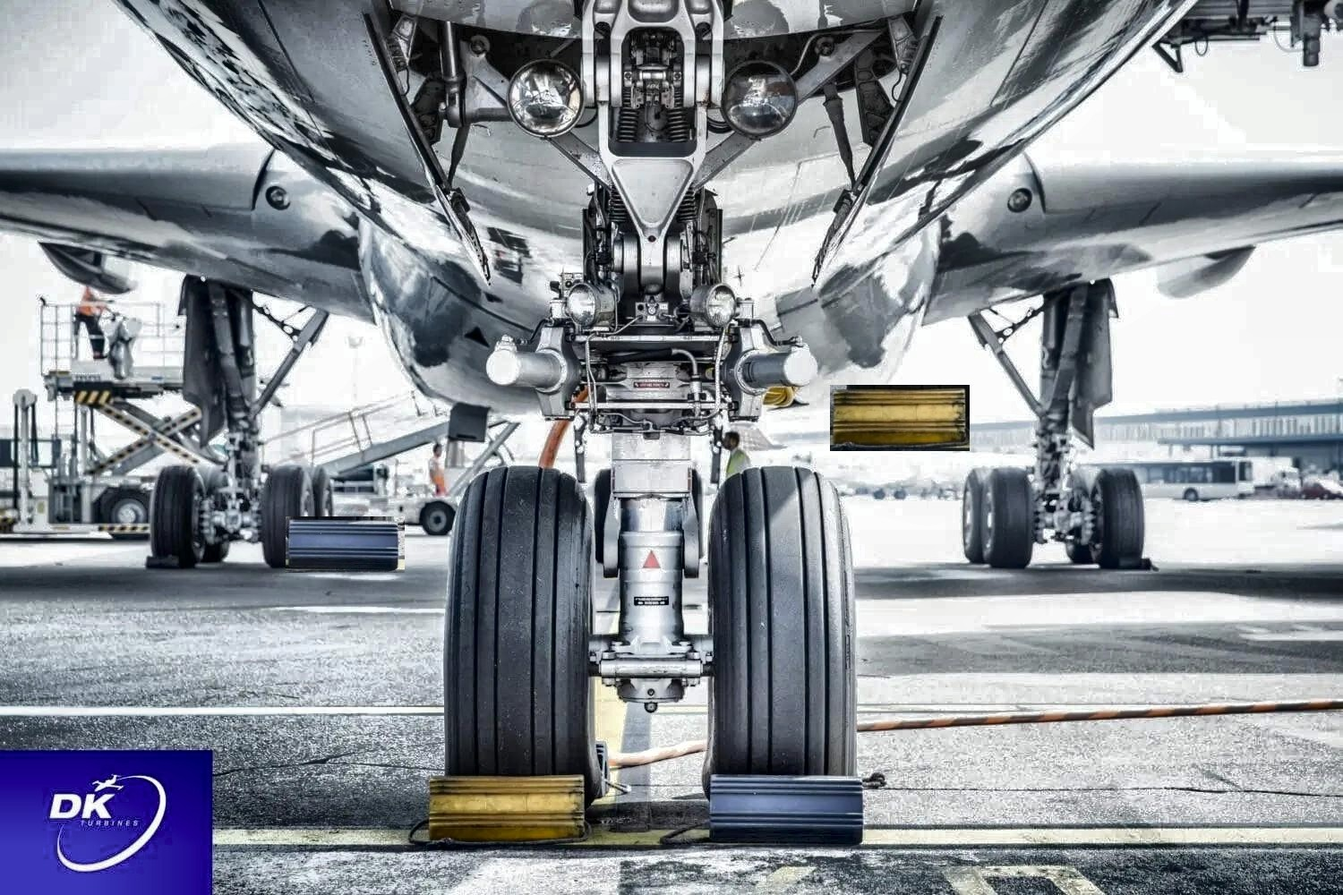chock: (706, 770, 872, 849), (426, 771, 590, 849), (830, 385, 970, 451), (286, 516, 405, 573)
wheel: (441, 470, 599, 808), (700, 467, 852, 801), (591, 465, 702, 577), (258, 463, 331, 567), (1077, 465, 1145, 568), (148, 465, 205, 567), (984, 466, 1035, 568), (191, 470, 233, 562), (1060, 478, 1099, 564), (960, 468, 993, 563), (305, 468, 334, 563), (592, 466, 617, 574), (97, 487, 153, 528), (686, 467, 704, 567), (419, 499, 456, 536), (357, 522, 378, 531)
